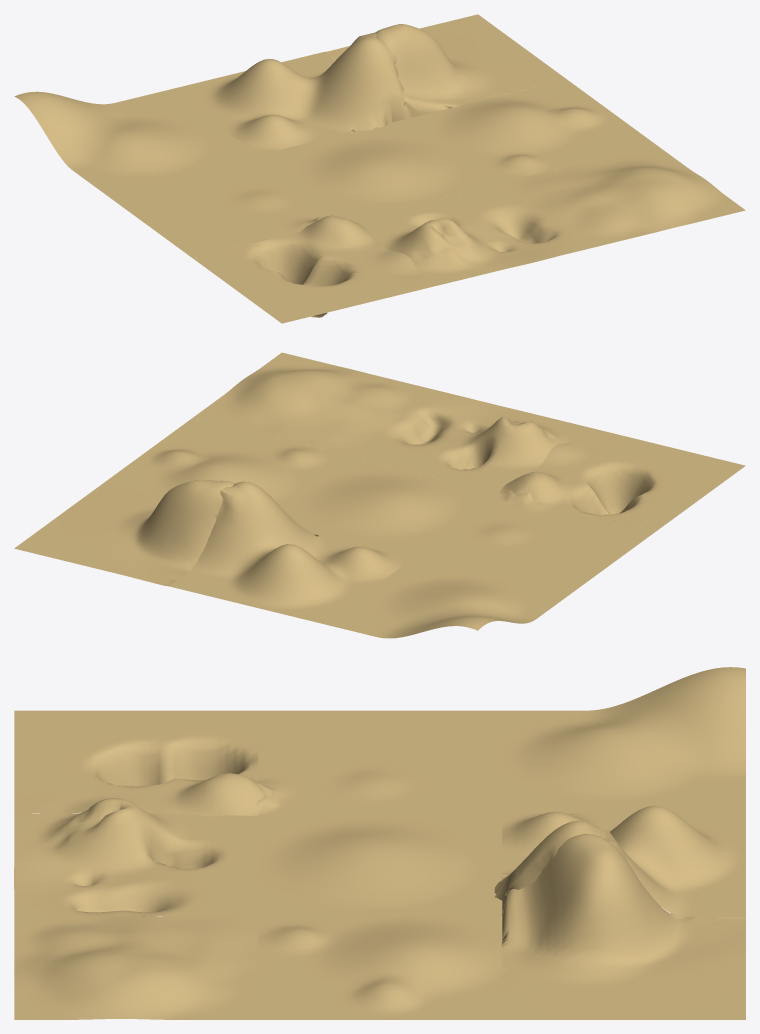
File: mapa.fbx
The picture shows the model from 3 angles, top to bottom: view 1: azimuth 30°, elevation 25°; view 2: azimuth 150°, elevation 25°; view 3: azimuth 270°, elevation 25°; orthographic projection. The views are drawn at different scales.
Visible parts, largest first — view 1: SUELO.008, SUELO.007, SUELO.002, SUELO.005, SUELO.004, SUELO, SUELO.001, SUELO.003, SUELO.006; view 2: SUELO.008, SUELO.006, SUELO.003, SUELO.002, SUELO.005, SUELO.001, SUELO, SUELO.007, SUELO.004; view 3: SUELO.006, SUELO.007, SUELO.001, SUELO.005, SUELO.004, SUELO.003, SUELO, SUELO.002, SUELO.008.
Boxes of the visible parts, x1,y1,x2,y2 form: SUELO.008: (169, 32, 412, 154); SUELO.007: (14, 90, 257, 192); SUELO.002: (193, 215, 436, 323); SUELO.005: (502, 145, 745, 247); SUELO.004: (413, 79, 655, 182); SUELO: (258, 117, 501, 219); SUELO.001: (350, 183, 590, 285); SUELO.003: (104, 155, 343, 258); SUELO.006: (324, 14, 566, 117); SUELO.008: (169, 481, 412, 623); SUELO.006: (14, 480, 235, 586); SUELO.003: (413, 490, 656, 596); SUELO.002: (499, 428, 745, 530); SUELO.005: (193, 352, 436, 455); SUELO.001: (347, 390, 590, 492); SUELO: (279, 455, 500, 558); SUELO.007: (324, 559, 566, 638); SUELO.004: (103, 418, 346, 504); SUELO.006: (501, 834, 745, 1019); SUELO.007: (502, 667, 745, 813); SUELO.001: (14, 798, 258, 916); SUELO.005: (14, 916, 258, 1019); SUELO.004: (258, 916, 502, 1019); SUELO.003: (252, 710, 502, 813); SUELO: (258, 813, 502, 916); SUELO.002: (14, 710, 264, 816); SUELO.008: (494, 805, 745, 916).
Bounding box in the file's own units: 6005 × 1345 × 6002.
